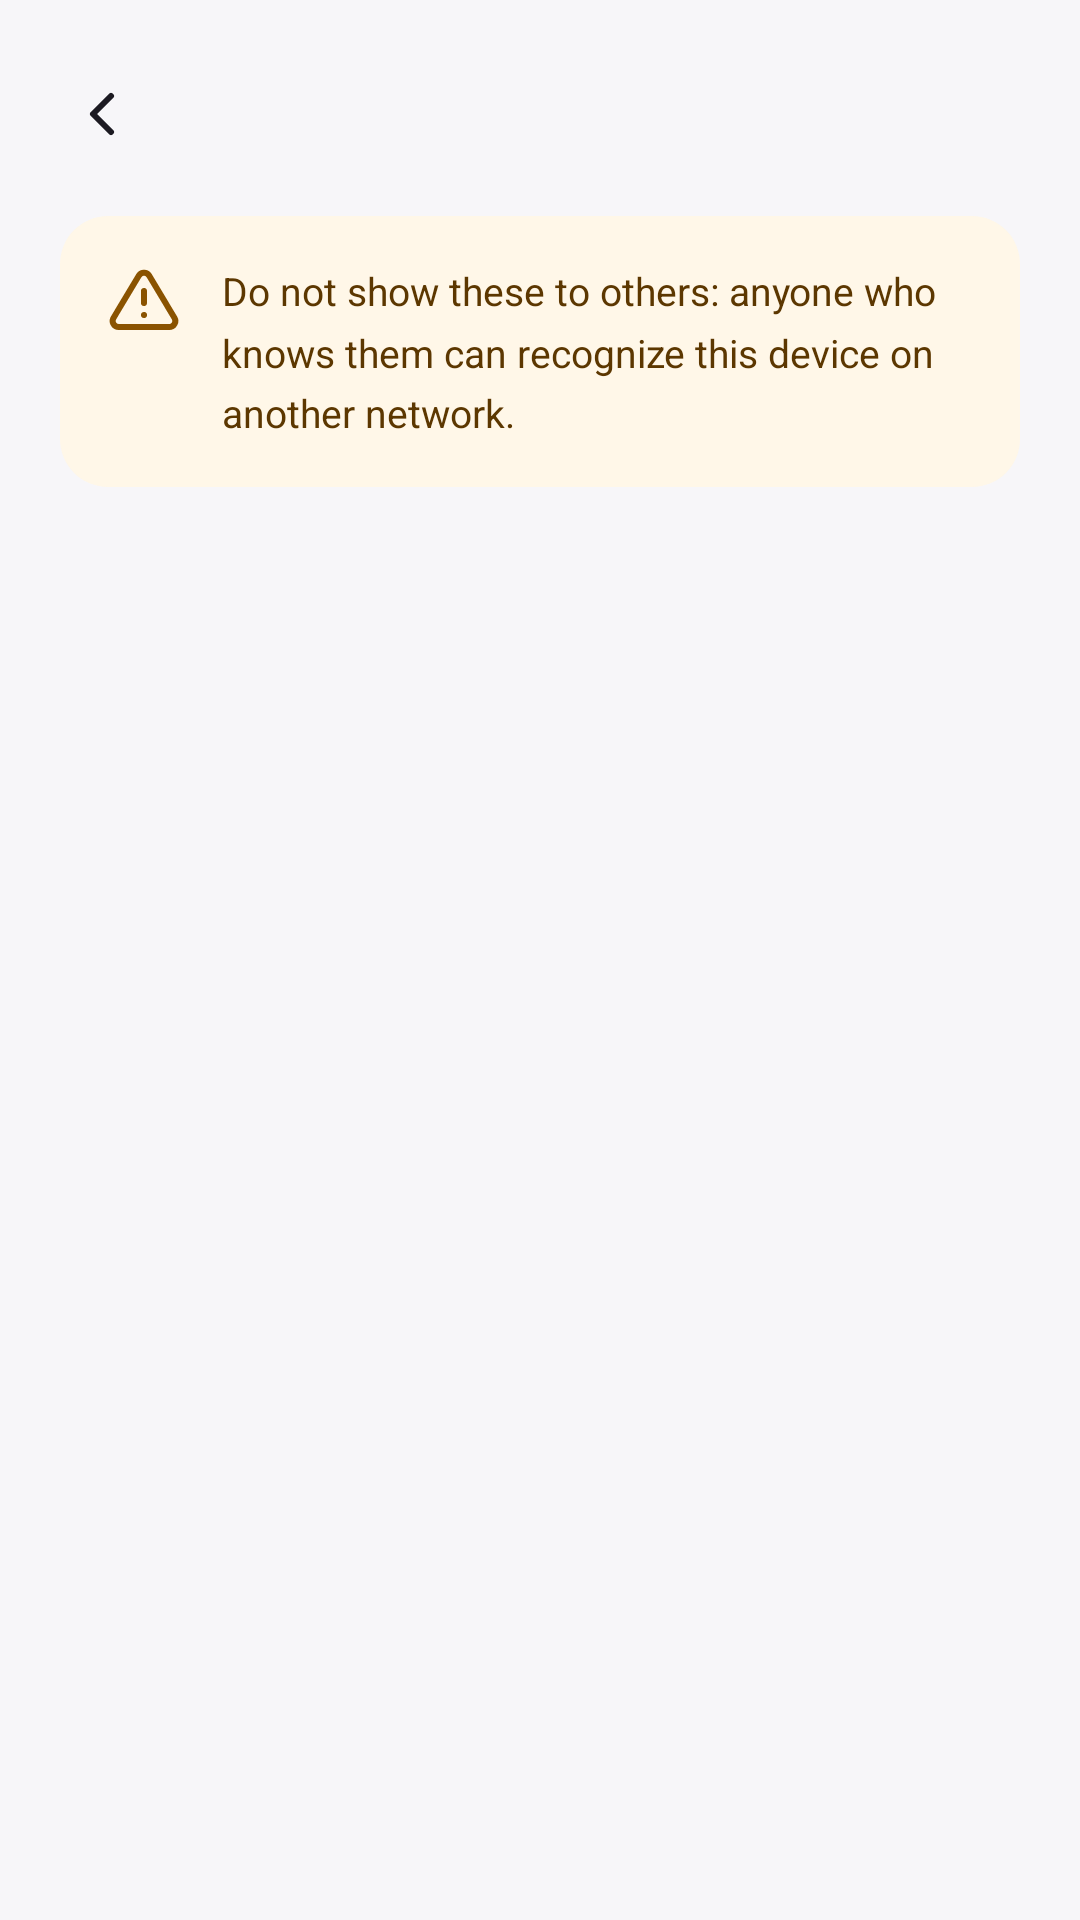

Locate icon controls on the screen. Image size 1080px x 1920px, boxes as (x1, y1, x2, y2).
Back: (90, 93, 114, 135)
warning: (109, 269, 179, 330)
